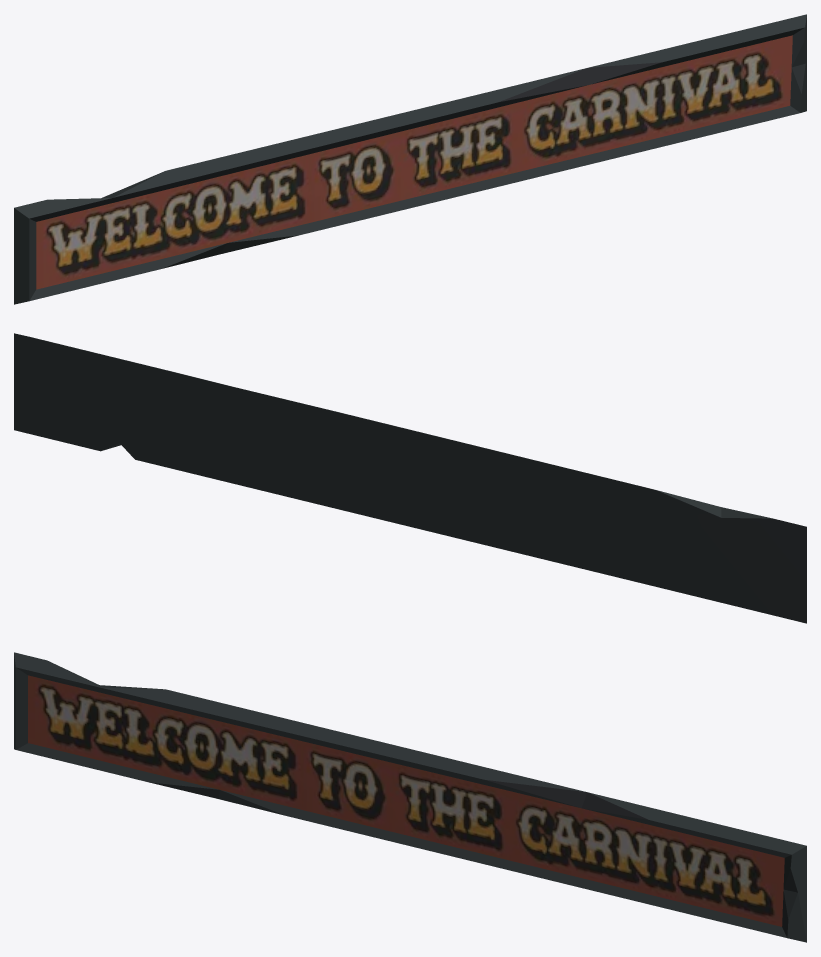
The model's file is sign-welcome.glb.
3 renders of one model, top to bottom at view 1: azimuth 30°, elevation 25°; view 2: azimuth 150°, elevation 25°; view 3: azimuth 330°, elevation 25°, orthographic.
Visible parts, largest first — view 1: Sm_Prop_Sign_Welcome_To_The_Carnival_01; view 2: Sm_Prop_Sign_Welcome_To_The_Carnival_01; view 3: Sm_Prop_Sign_Welcome_To_The_Carnival_01.
Boxes of the visible parts, x1=… form: Sm_Prop_Sign_Welcome_To_The_Carnival_01: x1=14, y1=14, x2=806, y2=304; Sm_Prop_Sign_Welcome_To_The_Carnival_01: x1=14, y1=333, x2=806, y2=623; Sm_Prop_Sign_Welcome_To_The_Carnival_01: x1=14, y1=652, x2=806, y2=942.
Bounding box in the file's own units: 526 × 61.45 × 7.68.
Materials: 1 (1 with a texture image).
